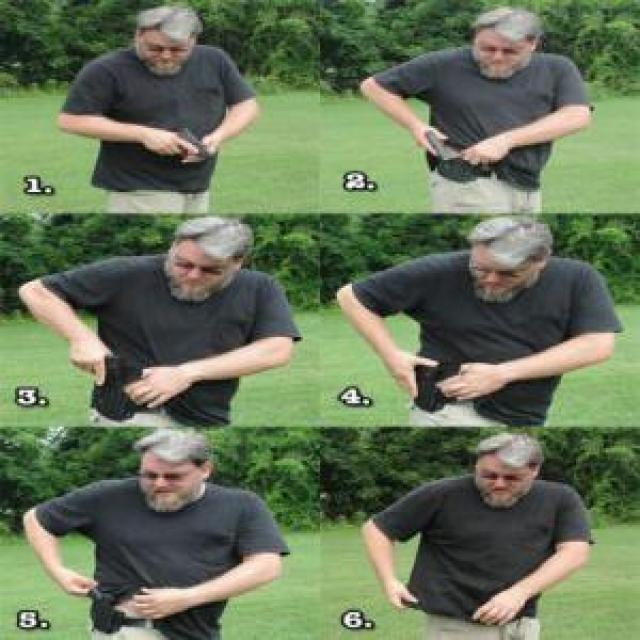pistol: (158, 128, 216, 162), (412, 360, 444, 414), (79, 586, 116, 632), (83, 354, 131, 389), (420, 130, 454, 164)
